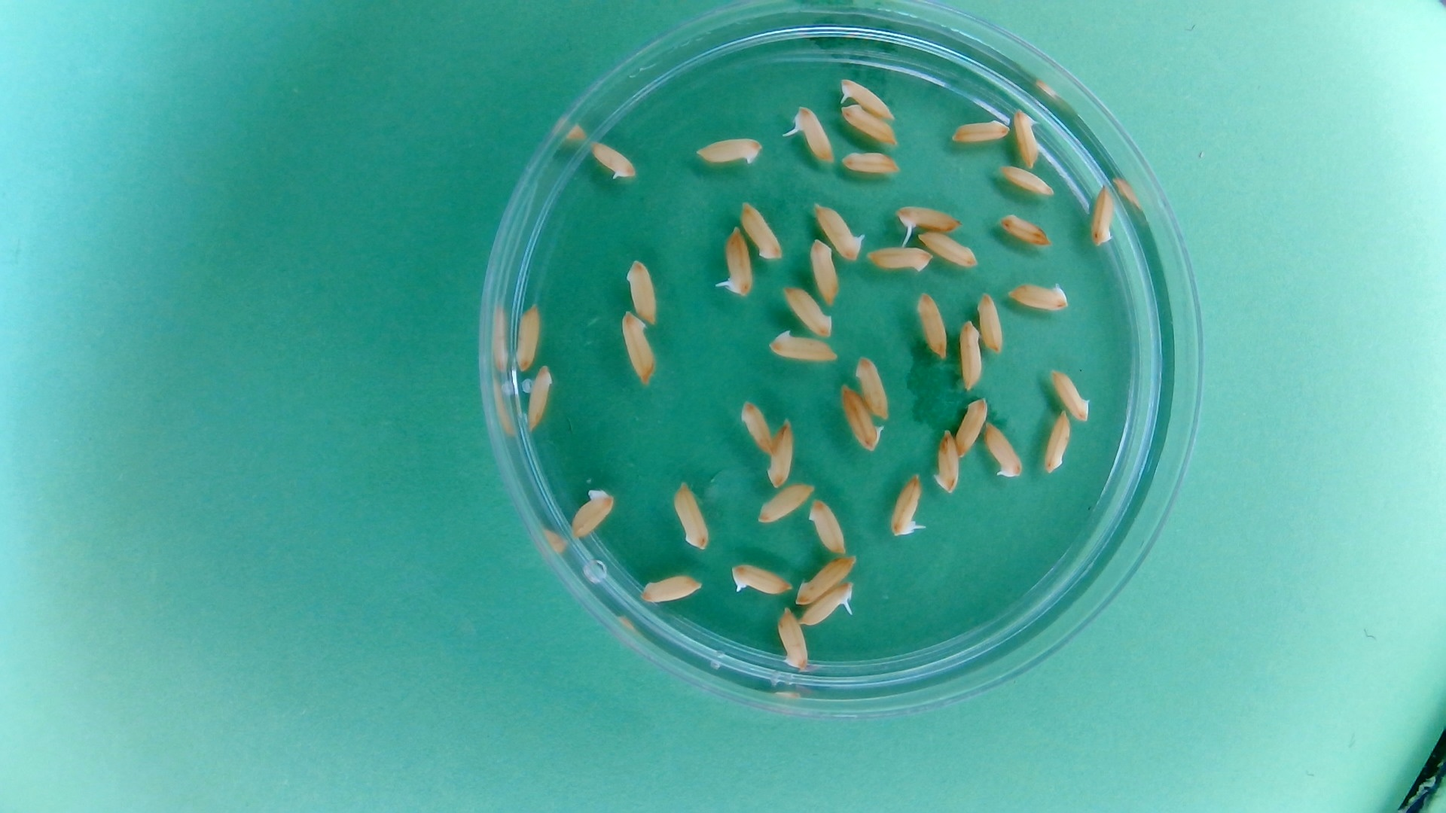no: (837, 381, 886, 454), (811, 198, 866, 263), (794, 552, 859, 604), (779, 282, 837, 339), (670, 478, 712, 553), (618, 309, 657, 388), (739, 198, 785, 262), (764, 327, 840, 365), (755, 480, 817, 526), (568, 484, 618, 541), (853, 353, 893, 422), (913, 288, 950, 361), (838, 103, 898, 148), (806, 495, 850, 556), (623, 256, 660, 327), (1048, 366, 1094, 422), (764, 416, 798, 491), (918, 229, 981, 269), (775, 604, 812, 672), (1005, 279, 1071, 315), (995, 209, 1054, 249), (807, 236, 840, 307), (693, 134, 764, 167), (737, 397, 775, 458), (637, 571, 705, 605), (523, 364, 556, 434), (511, 302, 542, 373), (947, 114, 1011, 148), (954, 394, 988, 458), (931, 428, 963, 496), (1041, 408, 1073, 475), (996, 163, 1057, 198), (956, 316, 984, 391), (864, 244, 934, 274), (1011, 106, 1043, 171), (975, 288, 1006, 355), (837, 148, 901, 178), (1088, 182, 1117, 248)
yes: (981, 418, 1024, 481), (837, 75, 897, 119), (800, 582, 859, 626), (718, 225, 754, 297), (794, 105, 836, 165), (888, 470, 925, 538), (895, 202, 961, 235), (729, 560, 789, 595), (587, 139, 636, 179)
